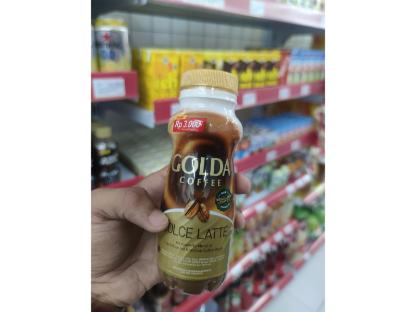Plastic Bottle: (153, 64, 247, 294)
